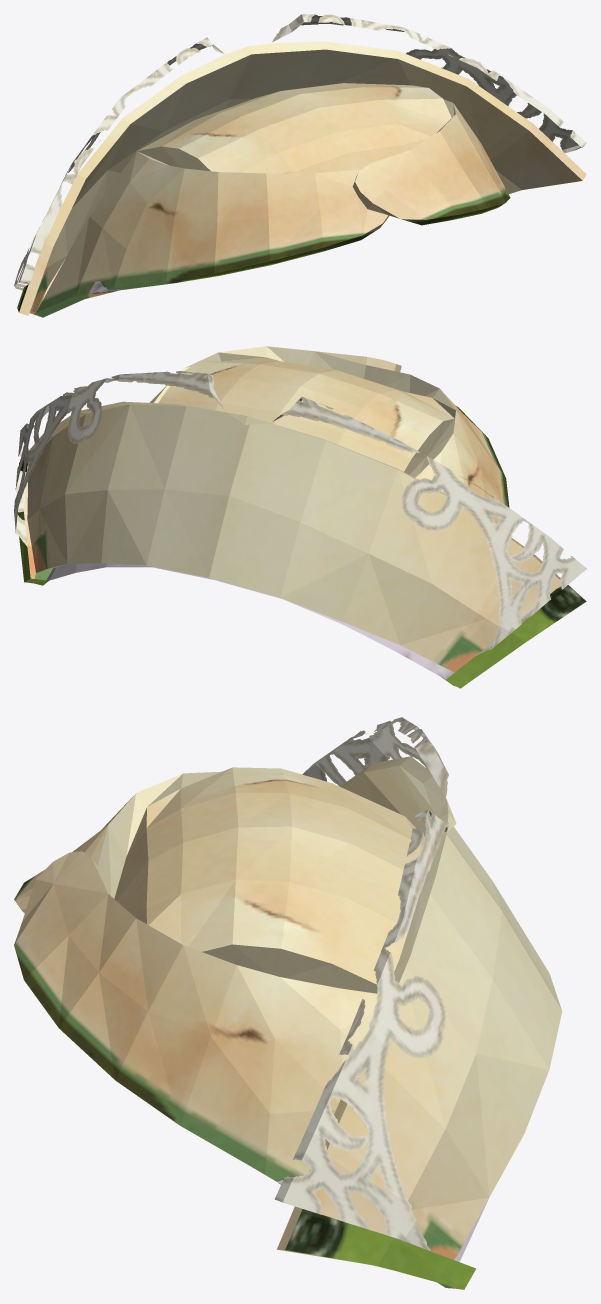
Rendered from skinSource0LHE.obj.
3 views of the same model, one above another, from view 1: azimuth 30°, elevation 25°; view 2: azimuth 150°, elevation 25°; view 3: azimuth 270°, elevation 25° (orthographic). The views are drawn at different scales.
Parts seen in each view (by area): view 1: skinSource0LHE; view 2: skinSource0LHE; view 3: skinSource0LHE.
Boxes of the visible parts, box(x1,y1,x2,y2) form: skinSource0LHE: box(14, 14, 586, 317); skinSource0LHE: box(14, 346, 586, 688); skinSource0LHE: box(14, 717, 562, 1289).
Bounding box in the file's own units: 19.82 × 8.22 × 11.71.
